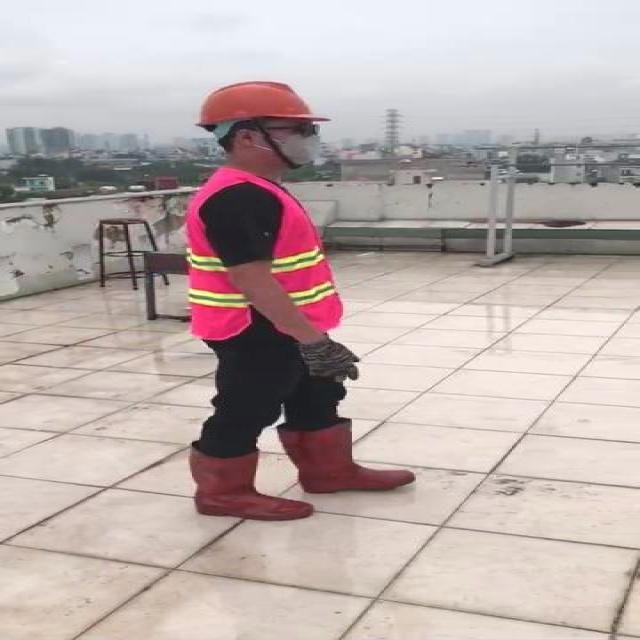boots: (185, 445, 315, 521), (279, 423, 414, 493)
face_mask: (272, 119, 331, 168)
glasses: (284, 120, 326, 142)
hand_glove: (300, 343, 362, 381)
head_helmet: (196, 78, 318, 125)
person: (141, 71, 424, 516)
vest: (183, 168, 341, 339)
